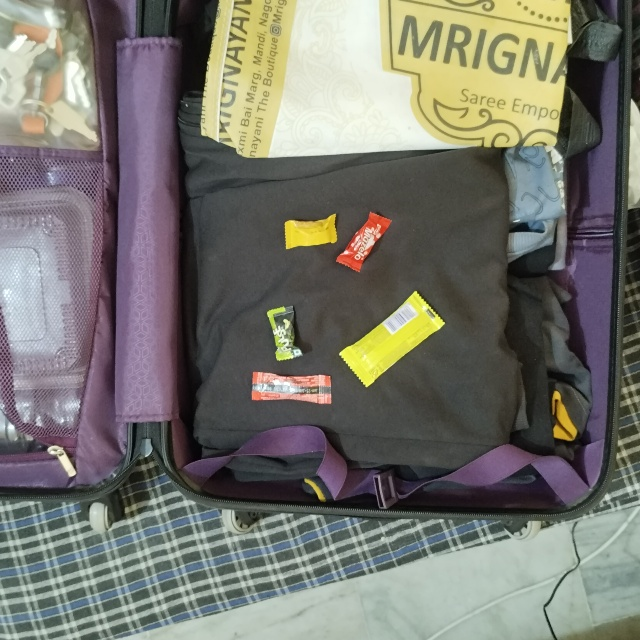Alpenlibe Creamfills: (284, 219, 338, 250)
Mazelo: (370, 206, 398, 273)
Nescafe Coffee: (253, 370, 332, 403)
Orbit: (336, 356, 444, 400)
Pulse: (264, 309, 295, 363)
